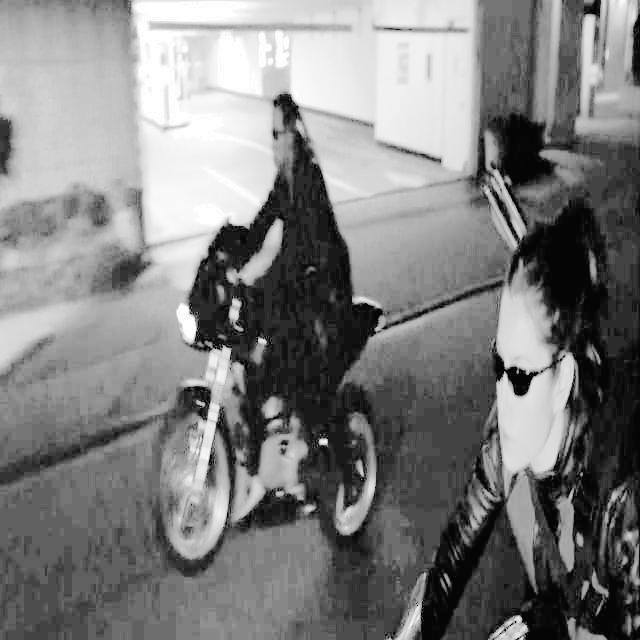Motorcycle: (139, 255, 410, 578)
